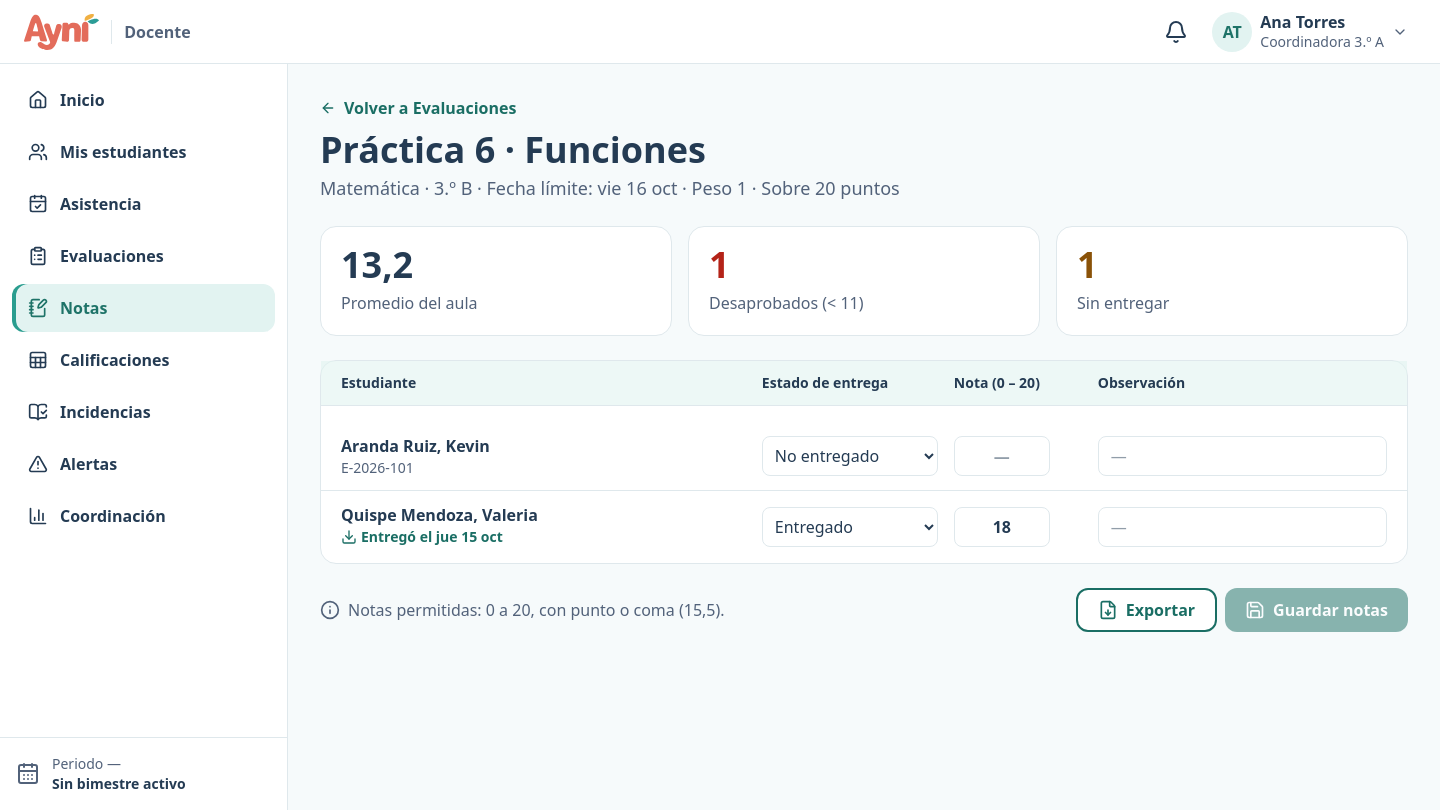
Test: Notas (RF-43, RN-08) › bloquea letras, marca notas fuera de rango, avisa cambios sin guardar y guarda con coma
Expected: the field named "Nota de Quispe Mendoza, Valeria" holds "18", [954,507,1050,547]
Expected: the button with aria-label "Descargar la entrega de Quispe Mendoza, Valeria" is shown, [341,527,503,547]
Type "abc25" into the field named "Nota de Aranda Ruiz, Kevin" at (1002, 456), box [954,436,1050,476]
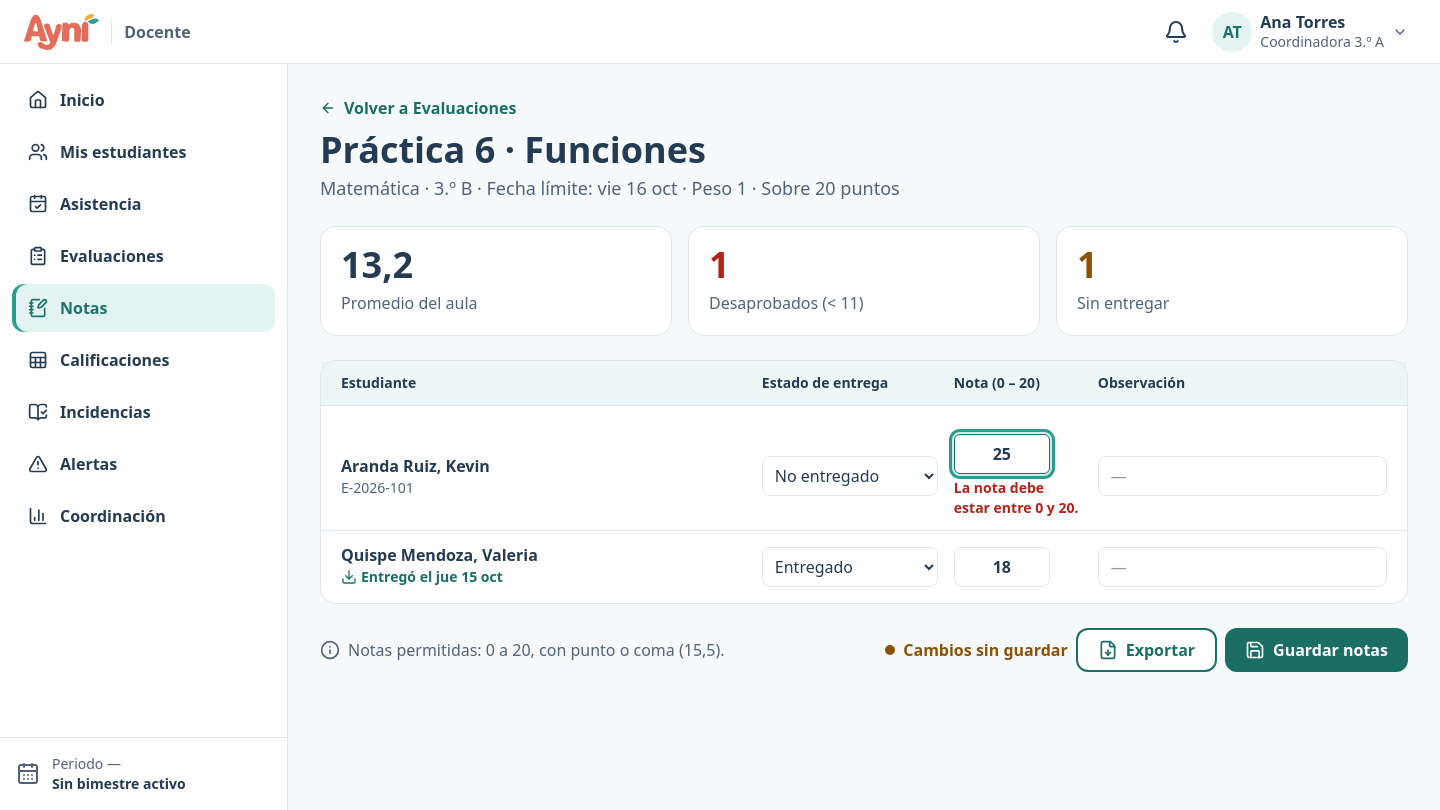
Expected: the field named "Nota de Aranda Ruiz, Kevin" holds "25"
Expected: the text "La nota debe estar entre 0 y 20." is shown, [954,478,1082,518]
Expected: the message "Cambios sin guardar" is shown, [885,638,1068,662]
Clear the field named "Nota de Aranda Ruiz, Kevin" at (1002, 454), box [954,434,1050,474]
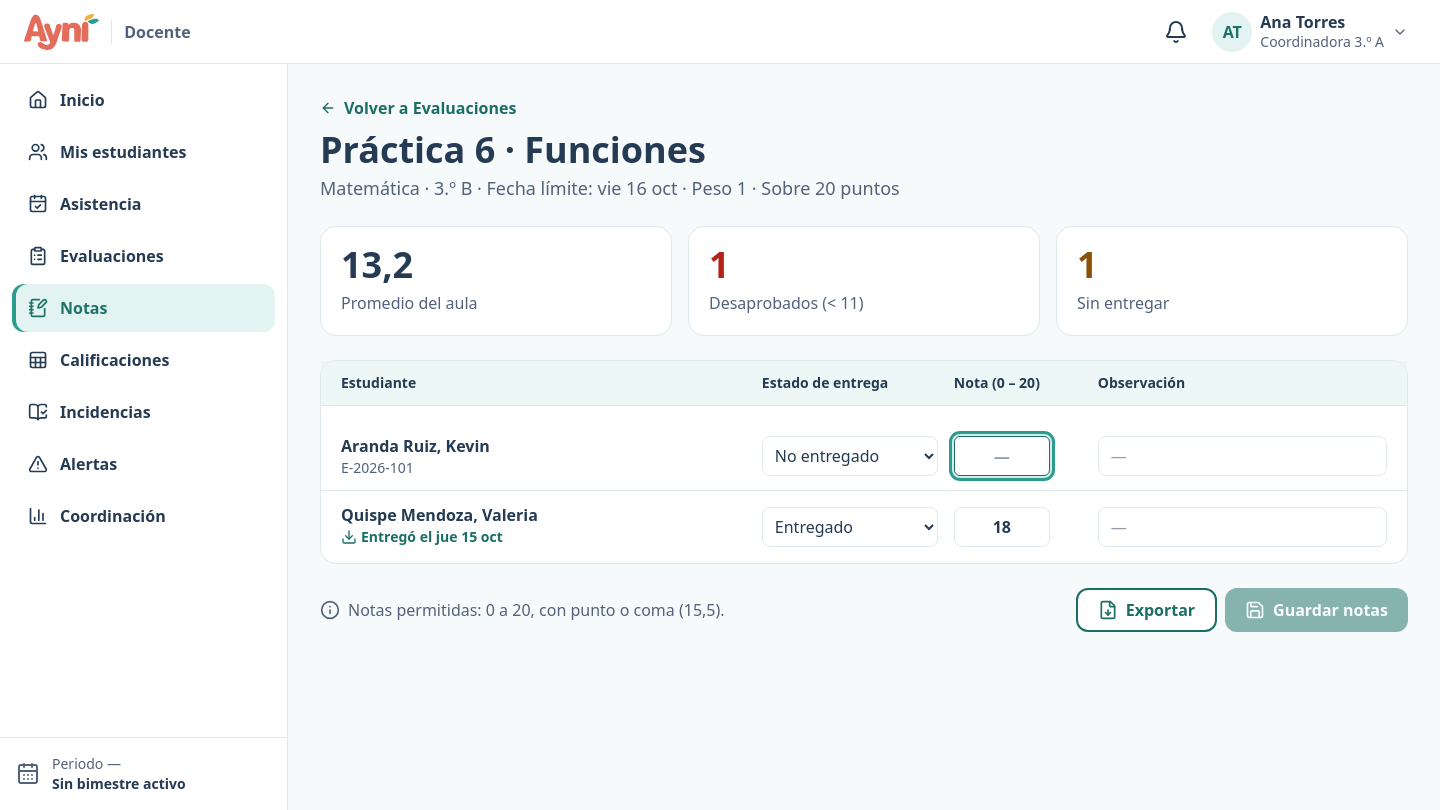
Type "15,5" into the field named "Nota de Aranda Ruiz, Kevin" at (1002, 456), box [954,436,1050,476]
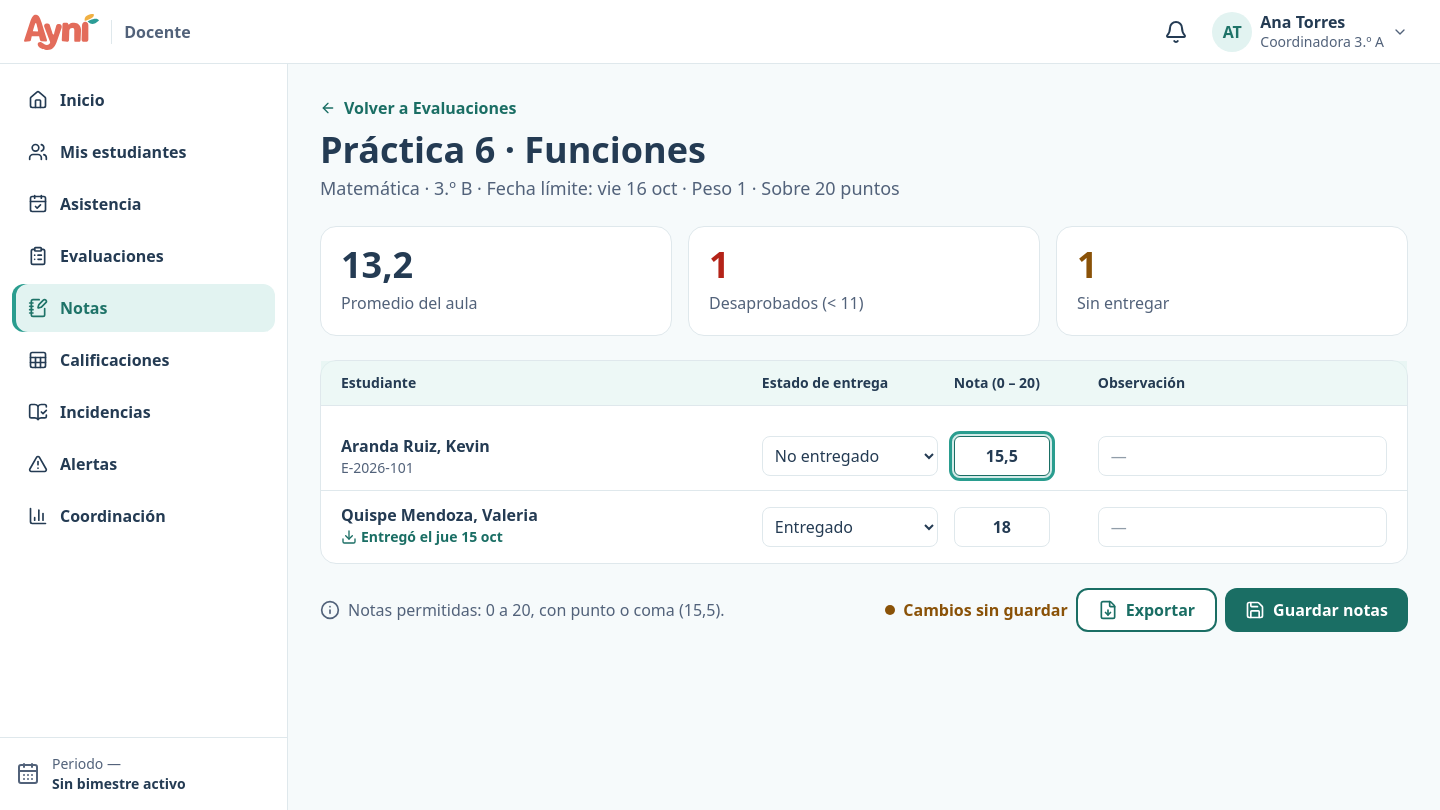
Expected: the text "La nota debe estar entre 0 y 20." is not shown
Select "Tardío" in the dropdown named "Estado de entrega de Aranda Ruiz, Kevin" at (850, 456), box [762,436,938,476]
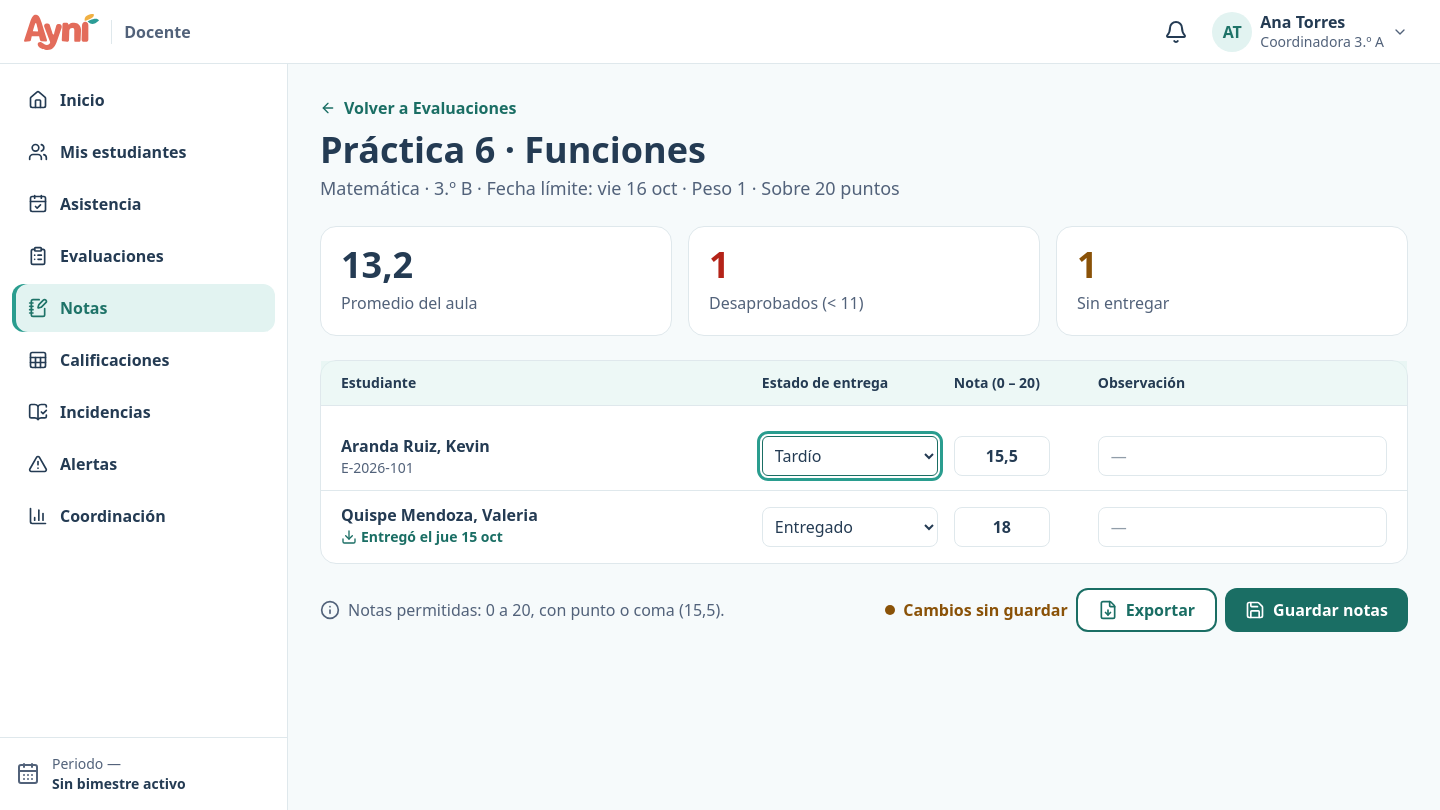
Click the button "Guardar notas" at (1317, 610), box [1225,588,1408,632]
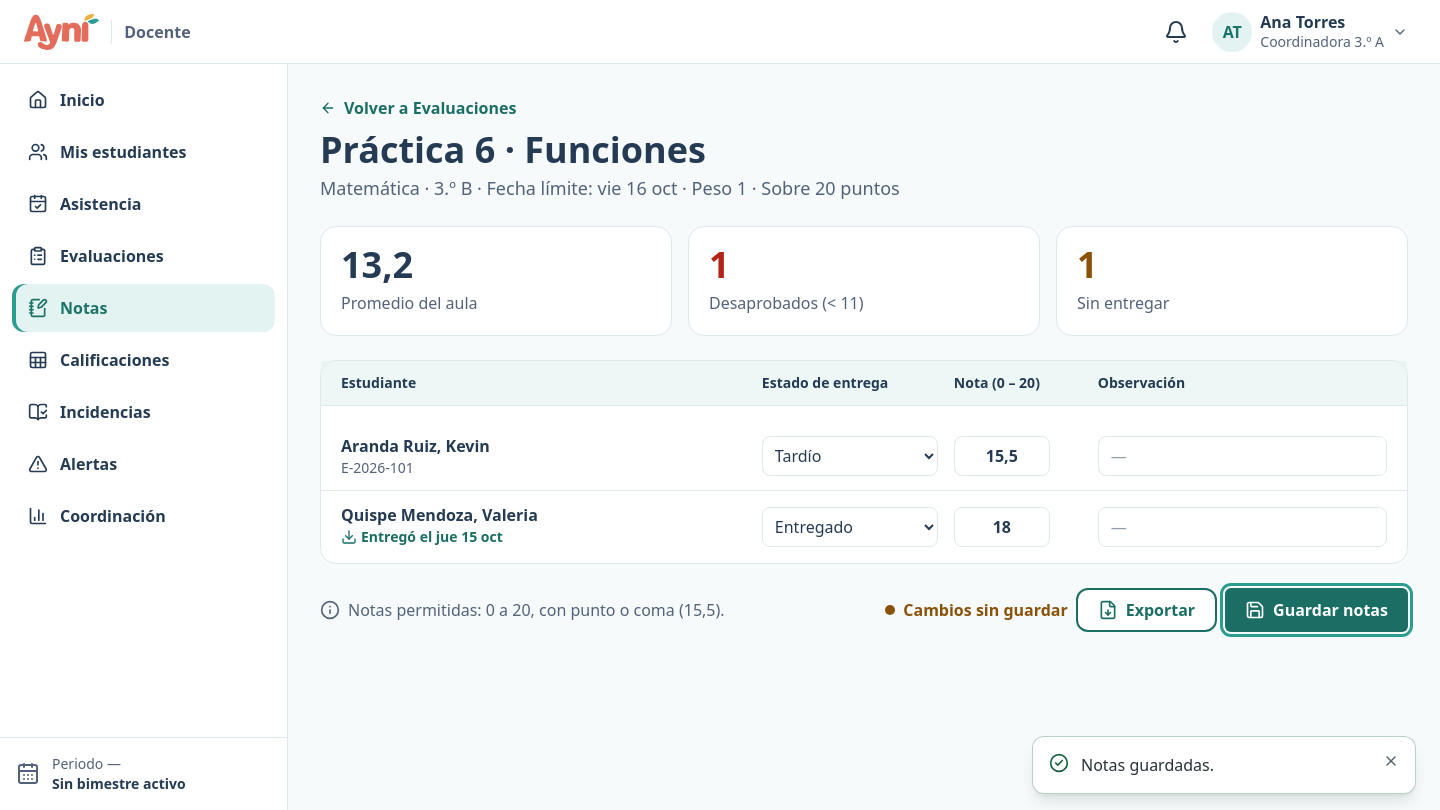
Expected: the text "Notas guardadas." is shown, [1081,754,1214,776]
